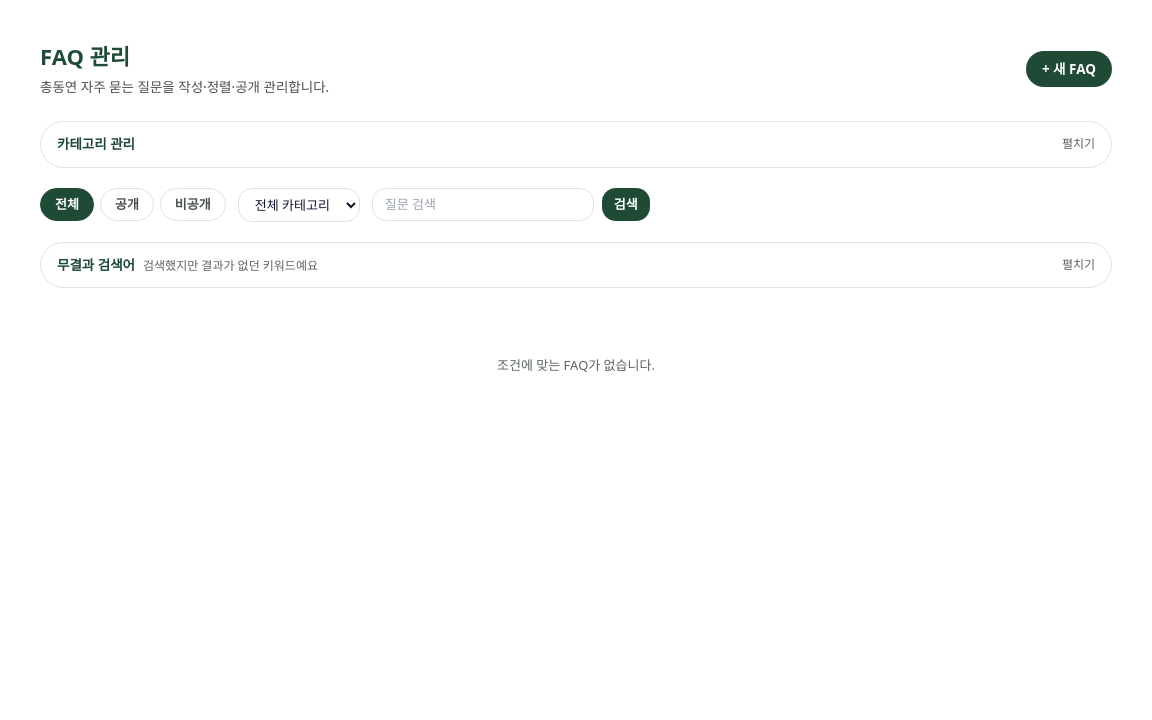
AdminFaqListPage › 카테고리 삭제 › 카테고리가 하나뿐이면 이관 선택지 없이 기본 삭제만 노출된다
Click the button "카테고리 관리 펼치기" at (96, 144), box [41,122,1111,167]
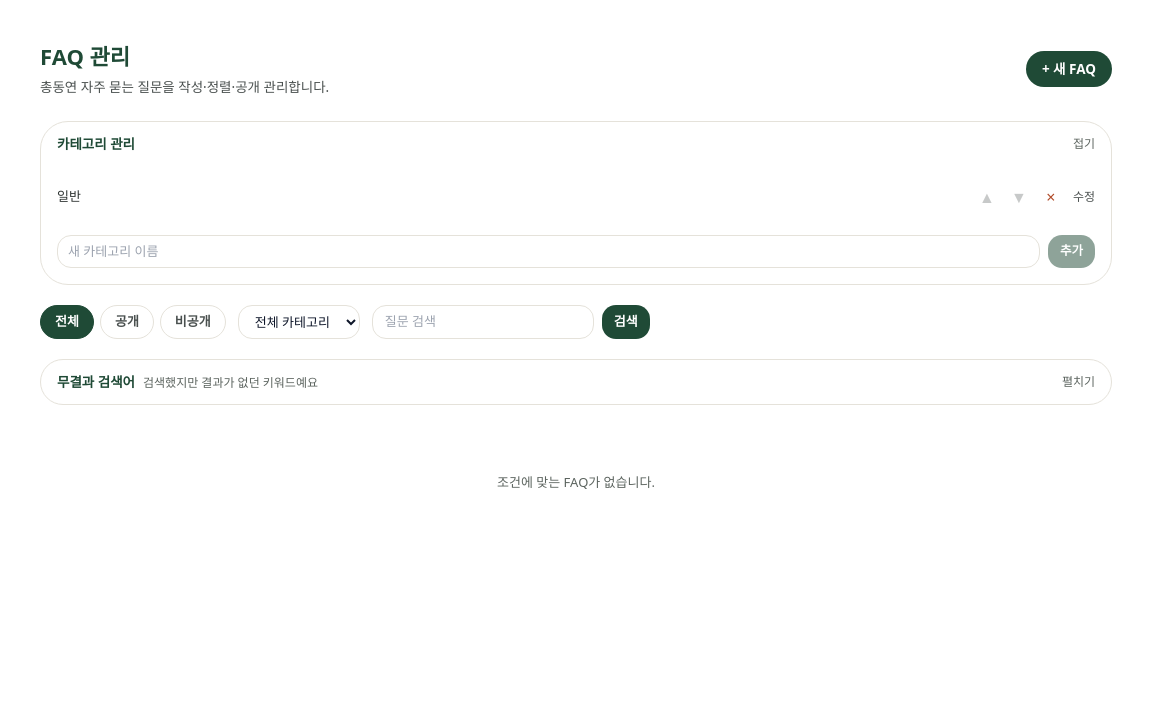
Click the button named "'일반' 카테고리 삭제" at (1051, 196), box [1037,182,1065,210]
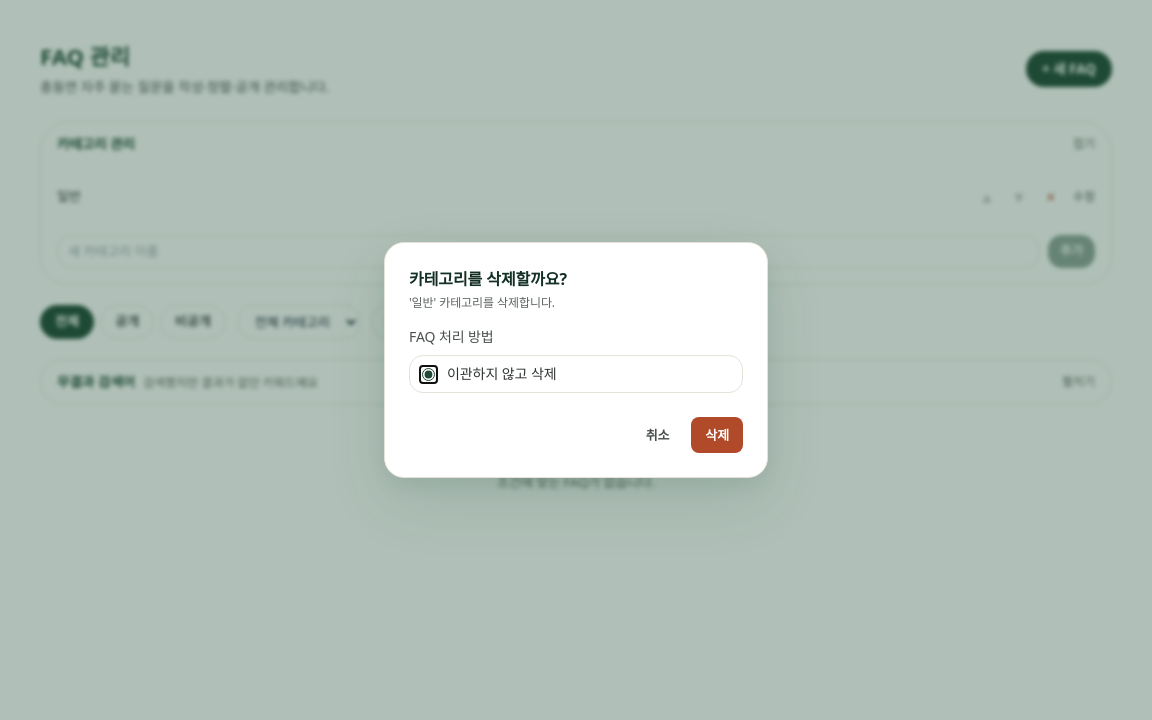
Expected: the number of radio buttons is 1, [422,368,435,380]
Expected: the radio button labelled "이관하지 않고 삭제" is checked, [422,368,435,380]
